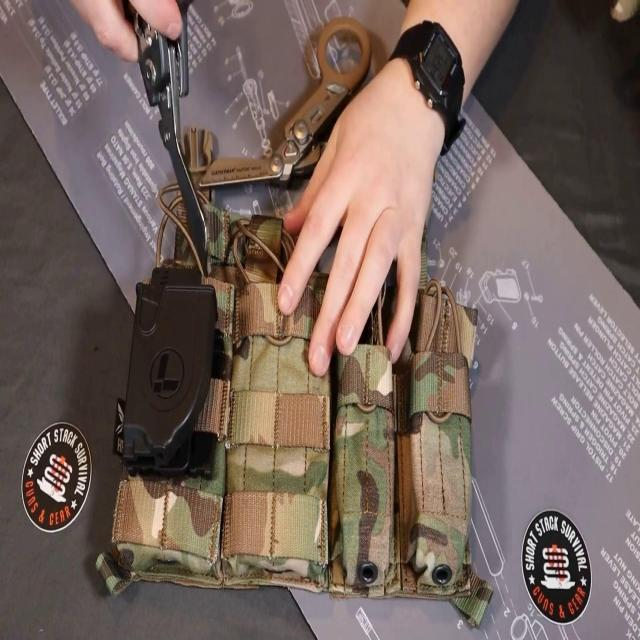scissor: (196, 13, 373, 190)
